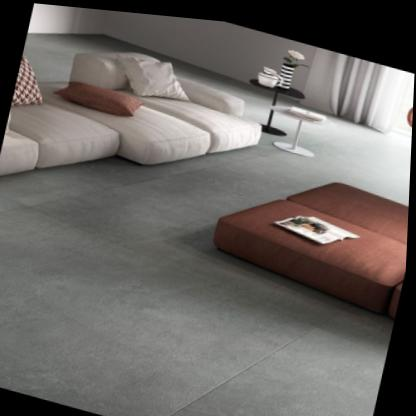Ceramic floor: (0, 111, 412, 416)
